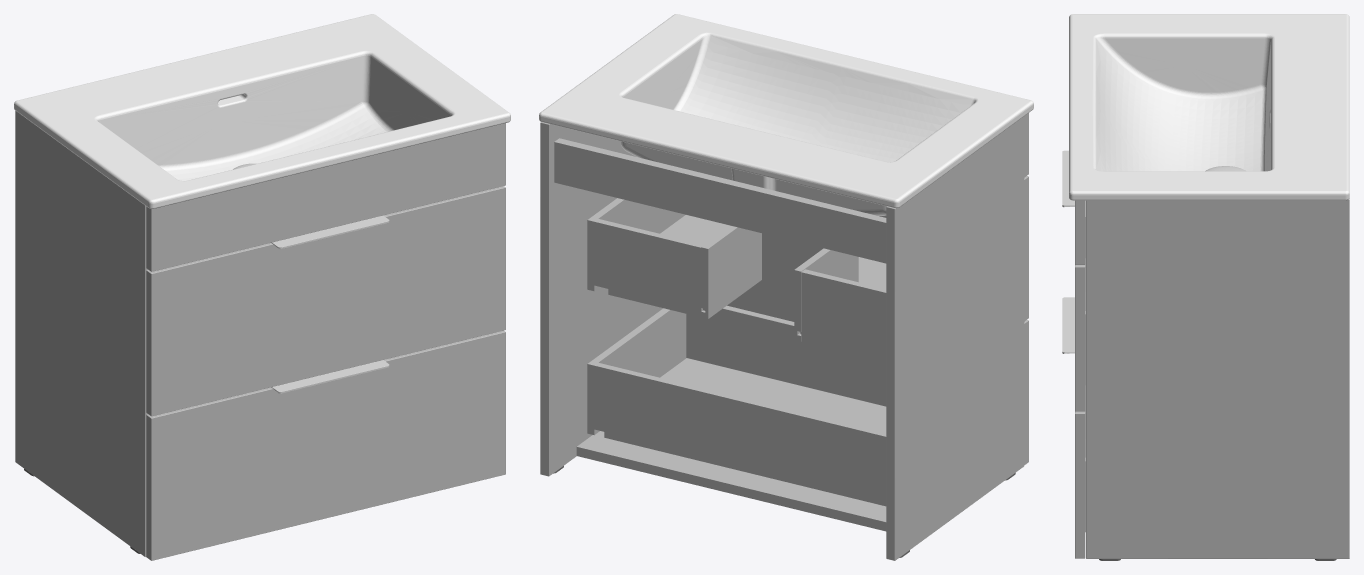
The model's file is AEC_43436.glb.
3 views of the same model, side by side, from view 1: azimuth 30°, elevation 25°; view 2: azimuth 150°, elevation 25°; view 3: azimuth 270°, elevation 25° (orthographic).
Parts seen in each view (by area): view 1: 0; view 2: 0; view 3: 0.
Boxes of the visible parts, x1,y1,x2,y2 form: 0: [14, 14, 510, 560]; 0: [539, 14, 1033, 560]; 0: [1062, 14, 1349, 560].
Bounding box in the file's own units: 0.65 × 0.626 × 0.4403.
Materials: 1 (1 with a texture image).
